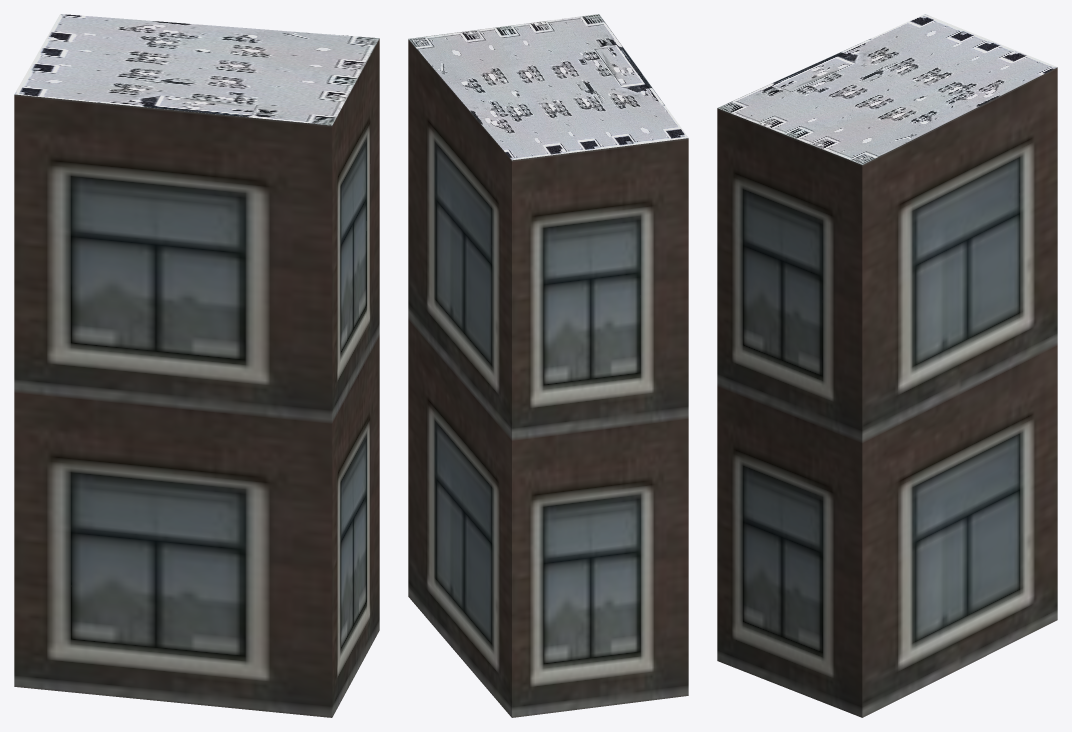
File: ResTex__283.fbx
3 renders of one model, left to right at view 1: azimuth 30°, elevation 25°; view 2: azimuth 150°, elevation 25°; view 3: azimuth 270°, elevation 25°, orthographic. The views are drawn at different scales.
Visible parts, largest first — view 1: CityEngineMaterial_16_m, CityEngineMaterial_15_m; view 2: CityEngineMaterial_16_m, CityEngineMaterial_15_m; view 3: CityEngineMaterial_16_m, CityEngineMaterial_15_m.
Boxes of the visible parts, bbox=[...] form: CityEngineMaterial_16_m: bbox=[14, 38, 379, 717]; CityEngineMaterial_15_m: bbox=[14, 14, 379, 125]; CityEngineMaterial_16_m: bbox=[408, 39, 688, 717]; CityEngineMaterial_15_m: bbox=[408, 14, 688, 160]; CityEngineMaterial_16_m: bbox=[717, 67, 1057, 717]; CityEngineMaterial_15_m: bbox=[718, 14, 1057, 164].
Size of the model in its own units: 3.52 by 6 by 3.35.
2 materials, 2 textured.
